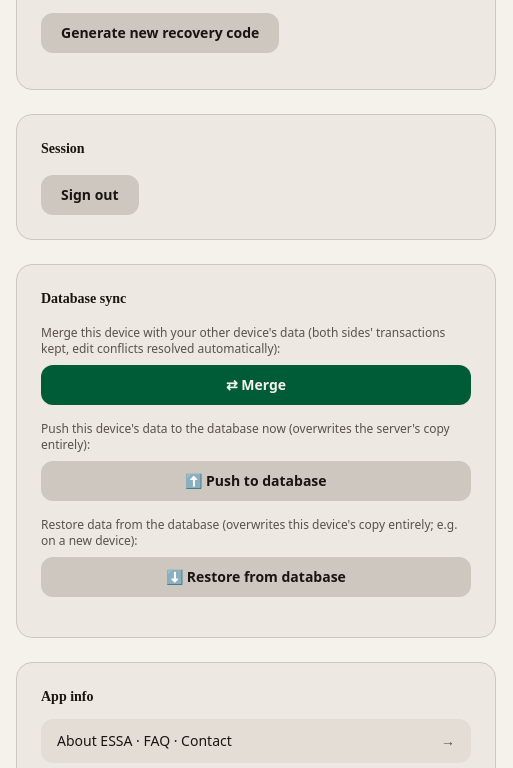
Test: names a goal both devices changed
(page scrolled)
Click the button "⇄ Merge": (256, 384) [41, 364, 471, 404]
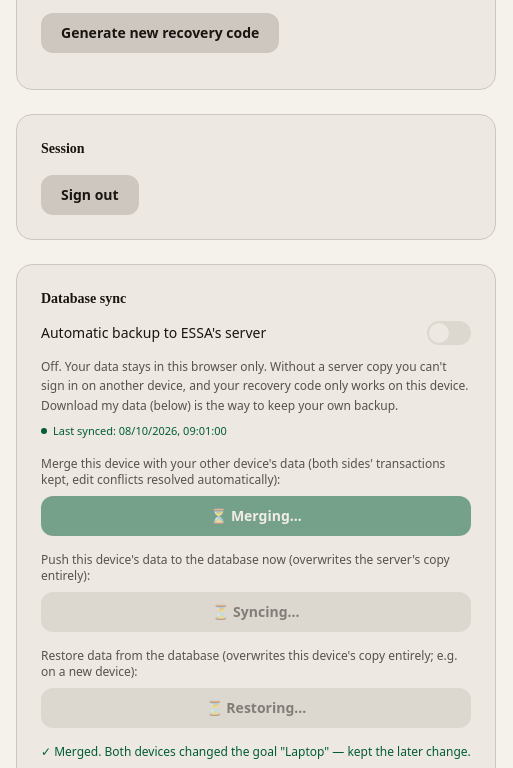
Expected: the text "✓ Merged. Both devices changed the goal \"Laptop\" — kept the later change." is shown, [41, 744, 471, 760]
